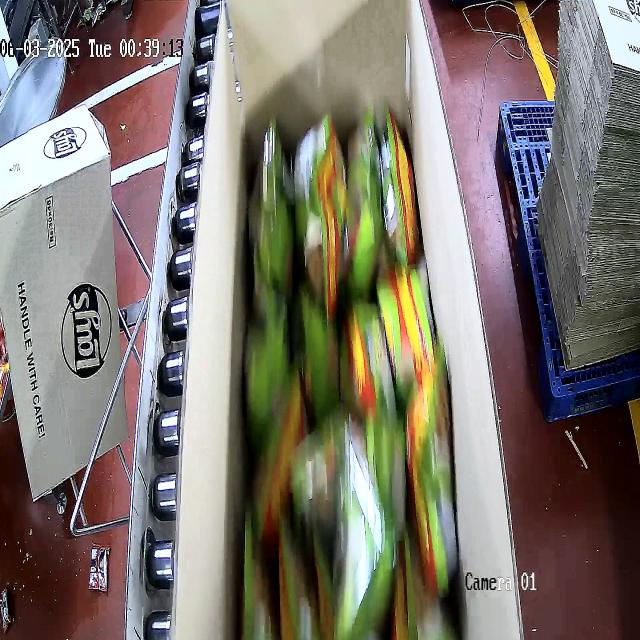YOGURT_HERB: (244, 100, 459, 638)
